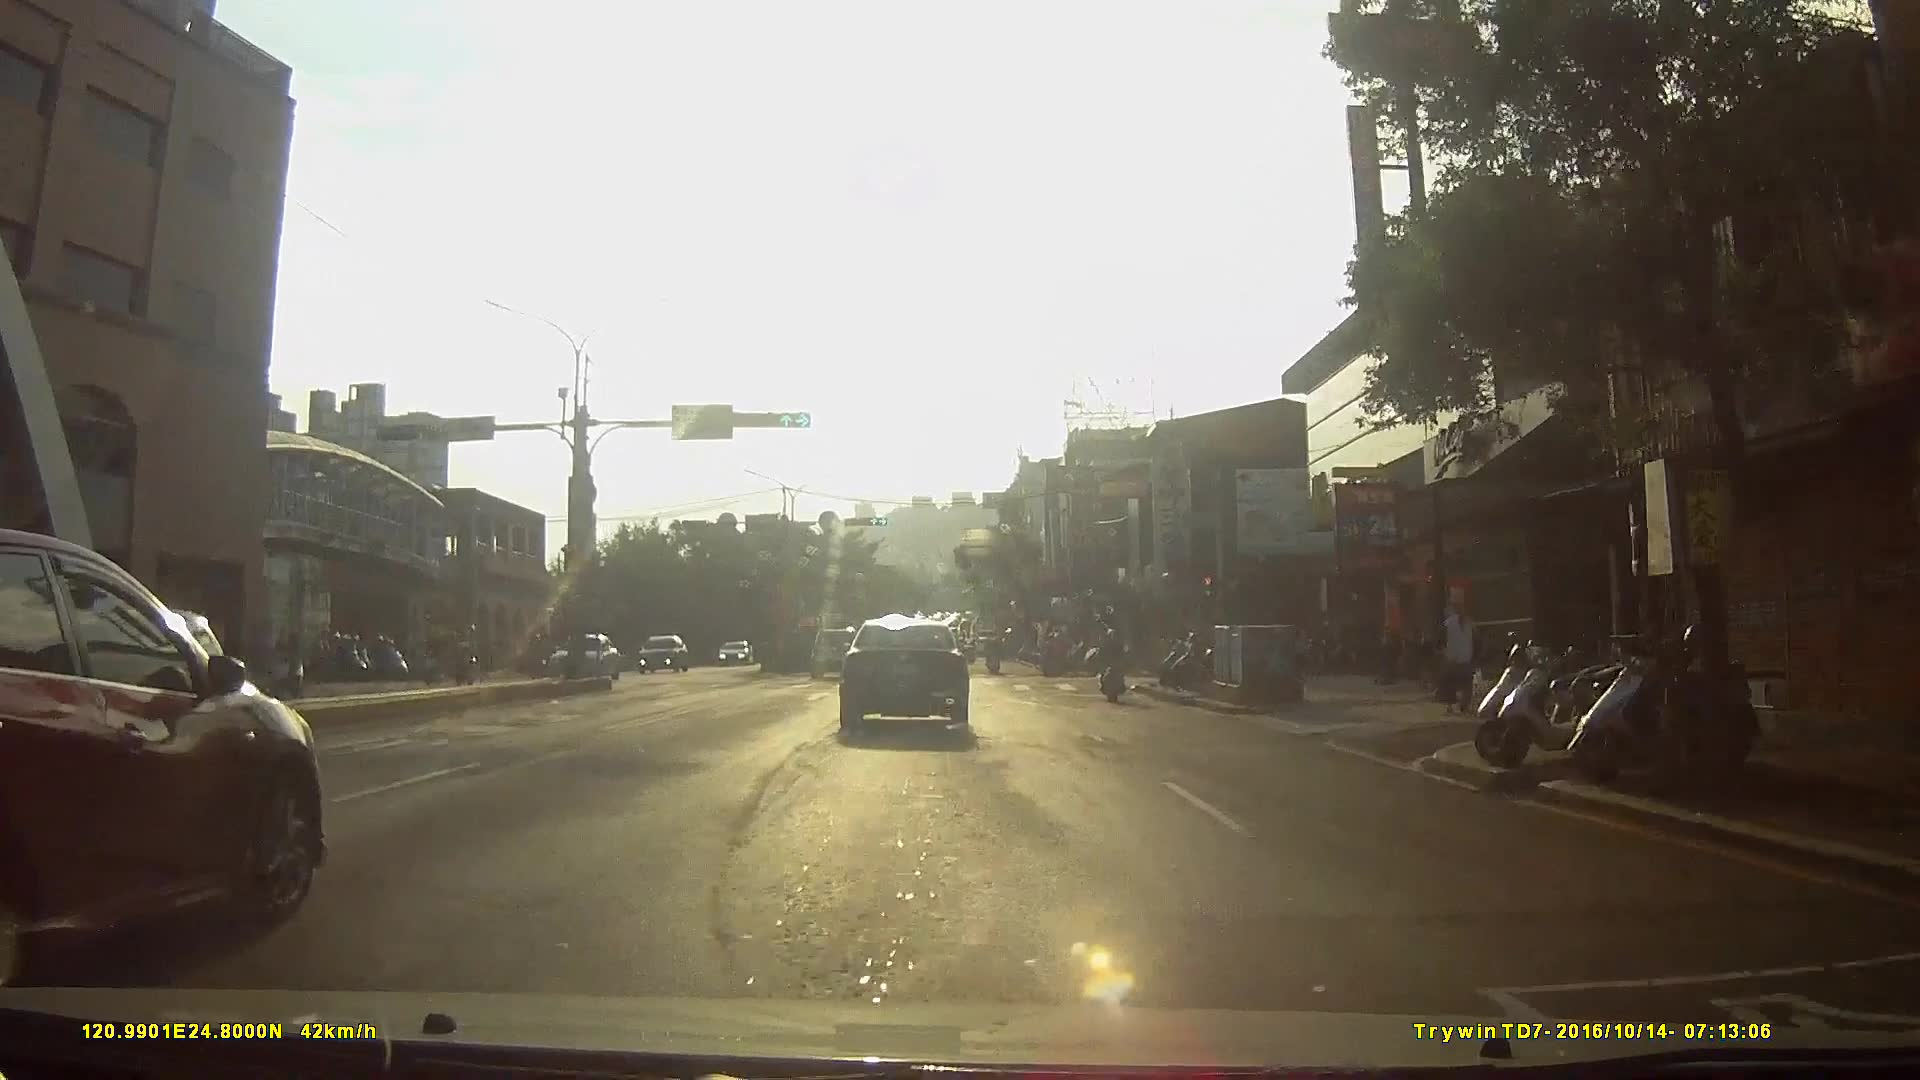pedestrian: (1431, 594, 1480, 721)
rider: (260, 627, 310, 695), (1096, 619, 1127, 698), (366, 633, 416, 683), (1038, 631, 1069, 679), (984, 634, 1004, 676)
vehicle: (1, 525, 340, 991), (836, 610, 985, 735), (548, 629, 624, 683), (808, 625, 867, 680), (639, 634, 693, 677), (713, 637, 756, 669)
